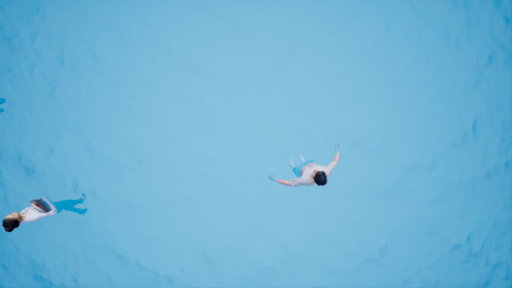person: (1, 187, 94, 234), (266, 137, 345, 192)
